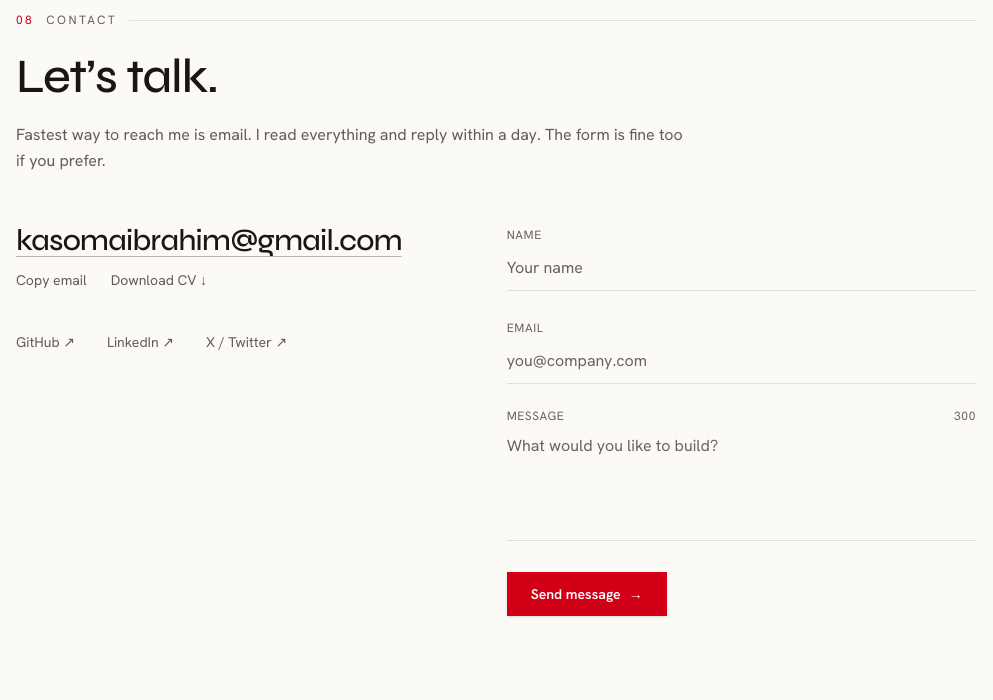
Test: Contact form › shows inline validation errors on empty submit
The width and height of the screenshot is (993, 700).
Click the button "Send message →". click: [587, 594]
box: [507, 572, 667, 616]
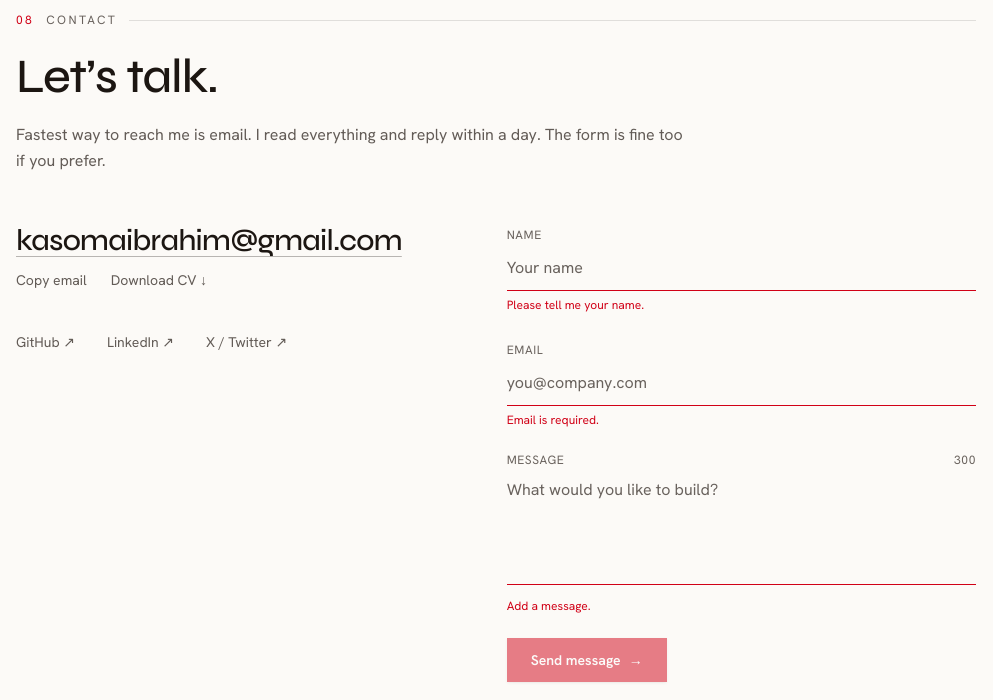
expect the text "Please tell me your name." is shown: met, box [507, 297, 644, 313]
expect the text "Email is required." is shown: met, box [507, 412, 599, 428]
expect the text "Add a message." is shown: met, box [507, 598, 591, 614]
